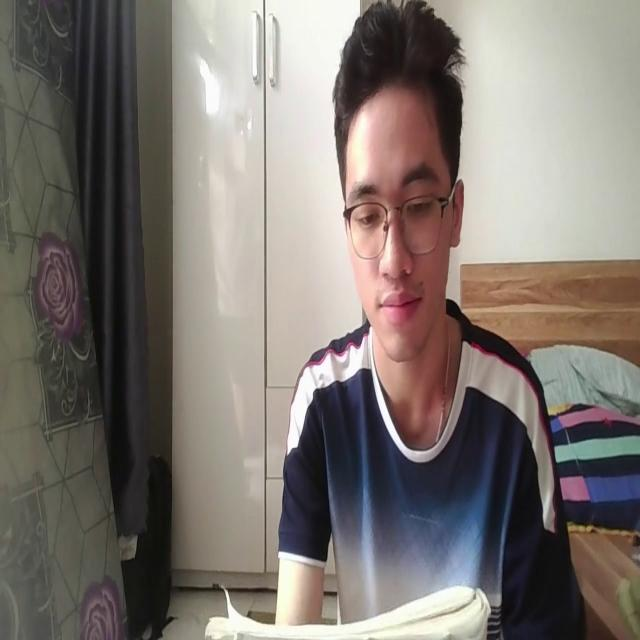book: (200, 574, 489, 640)
student: (273, 2, 581, 640)
